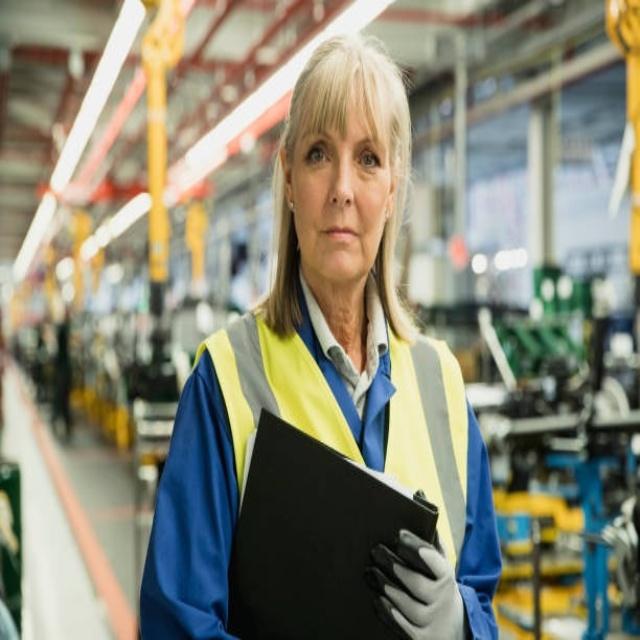Guantes: (370, 526, 465, 640)
Sin_gafas: (301, 127, 385, 182)
Sin_mascara: (313, 209, 366, 270)
